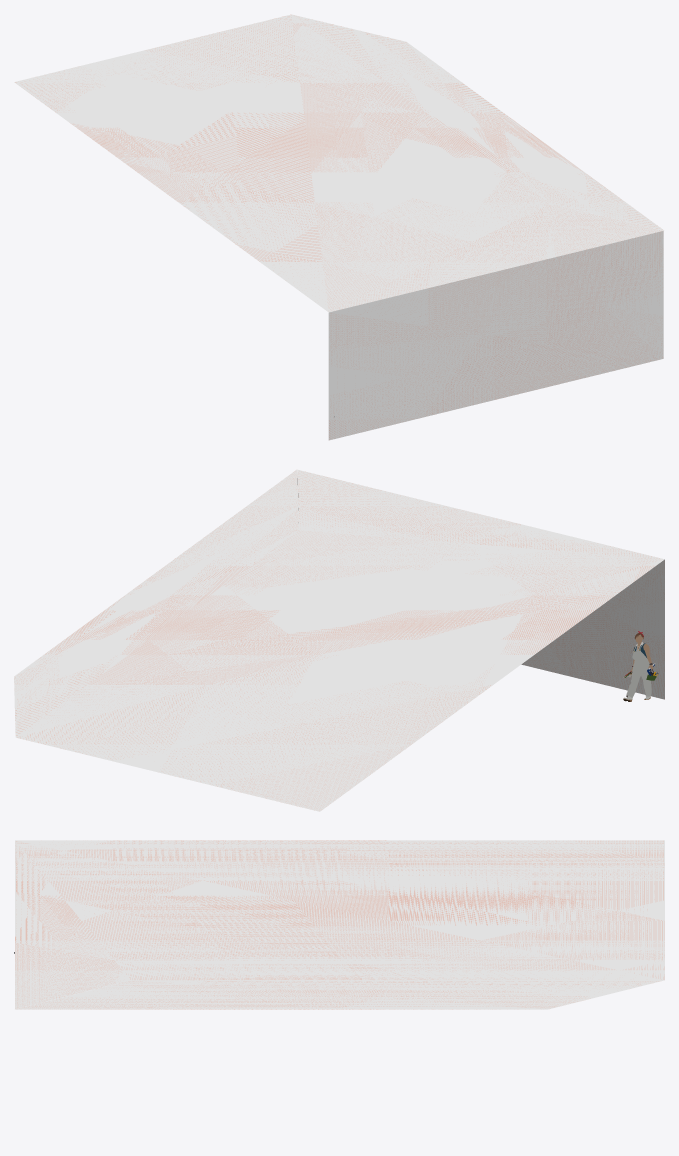
The model's file is simple.dae.
The picture shows the model from 3 angles, top to bottom: view 1: azimuth 30°, elevation 25°; view 2: azimuth 150°, elevation 25°; view 3: azimuth 270°, elevation 25°; orthographic projection. The views are drawn at different scales.
Visible parts, largest first — view 1: SketchUp; view 2: SketchUp, Lisanne; view 3: SketchUp.
Boxes of the visible parts, x1,y1,x2,y2 form: SketchUp: [14, 14, 664, 440]; SketchUp: [14, 469, 664, 811]; Lisanne: [626, 650, 651, 697]; SketchUp: [15, 840, 664, 1009].
Size of the model in its own units: 368 by 598 by 134.
